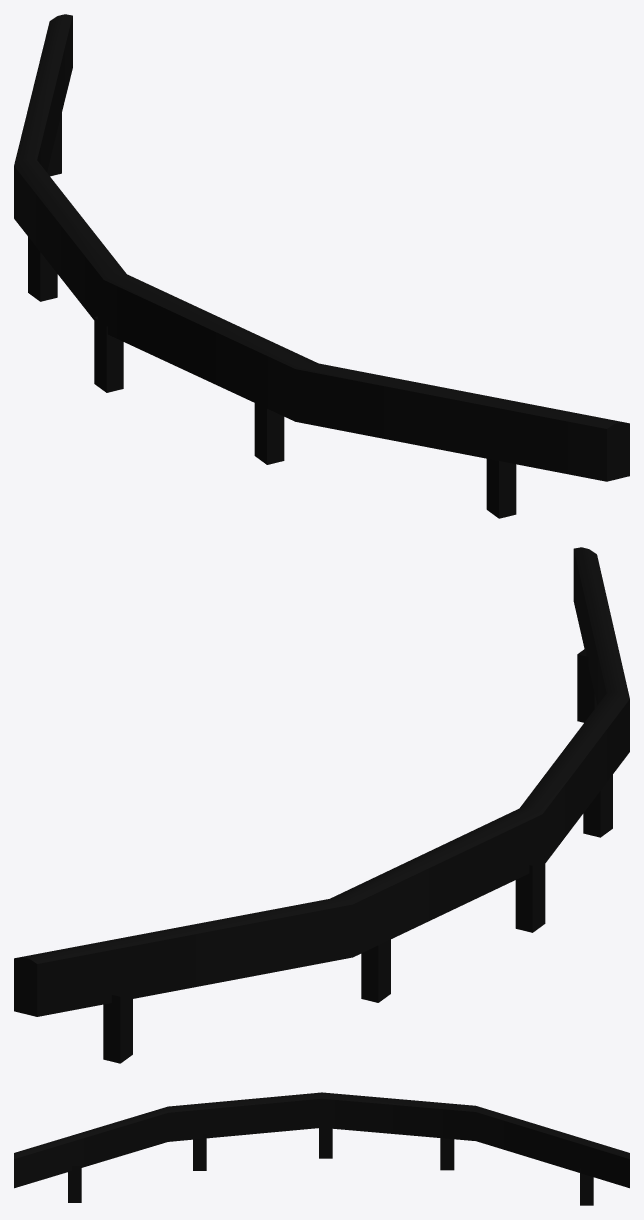
The model's file is railing2.FBX.
The picture shows the model from 3 angles, top to bottom: view 1: azimuth 30°, elevation 25°; view 2: azimuth 150°, elevation 25°; view 3: azimuth 270°, elevation 25°; orthographic projection. The views are drawn at different scales.
Parts seen in each view (by area): view 1: Box004; view 2: Box004; view 3: Box004.
Boxes of the visible parts, x1,y1,x2,y2 form: Box004: (14,14,629,518); Box004: (14,547,629,1063); Box004: (14,1092,629,1205).
Size of the model in its own units: 12.83 by 5.66 by 50.
